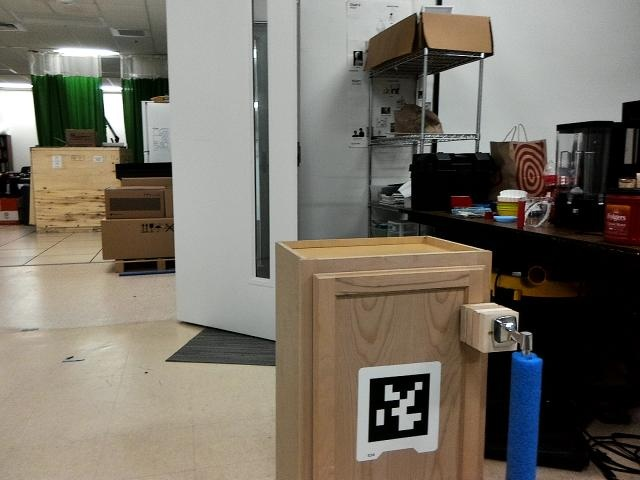noodle_handle: (502, 342, 550, 480)
